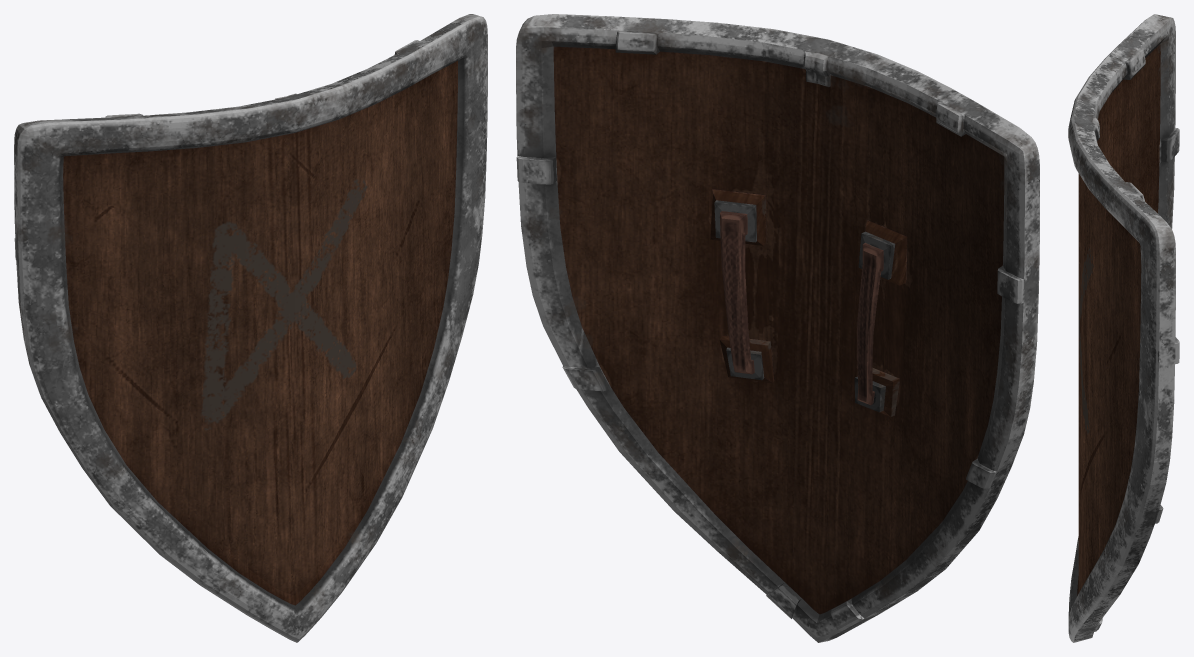
Rendered from shield.glb.
3 renders of one model, left to right at view 1: azimuth 30°, elevation 25°; view 2: azimuth 150°, elevation 25°; view 3: azimuth 270°, elevation 25°, orthographic. The views are drawn at different scales.
Visible parts, largest first — view 1: Low; view 2: Low; view 3: Low.
Part boxes in pixels (x1,y1,x2,y2): Low: [14, 14, 487, 642]; Low: [516, 14, 1039, 642]; Low: [1068, 14, 1179, 642].
Size of the model in its own units: 2.5 by 2.76 by 0.5315.
1 material, 1 textured.
